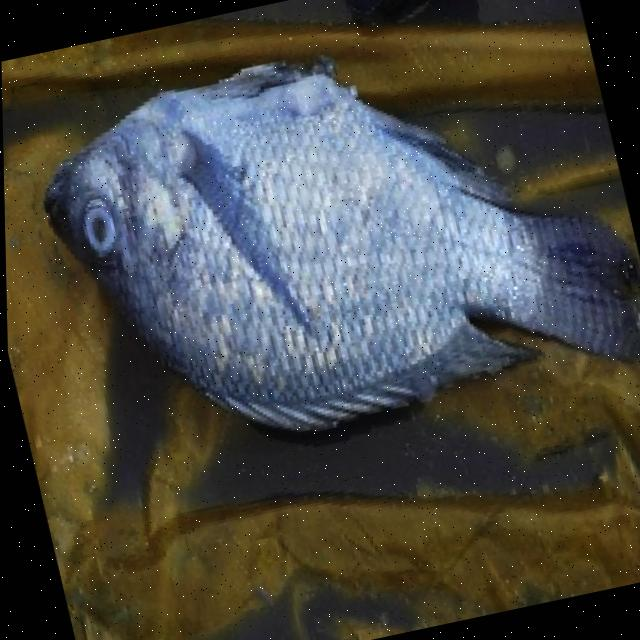Non-Fresh: (1, 48, 422, 426), (53, 181, 135, 276)
